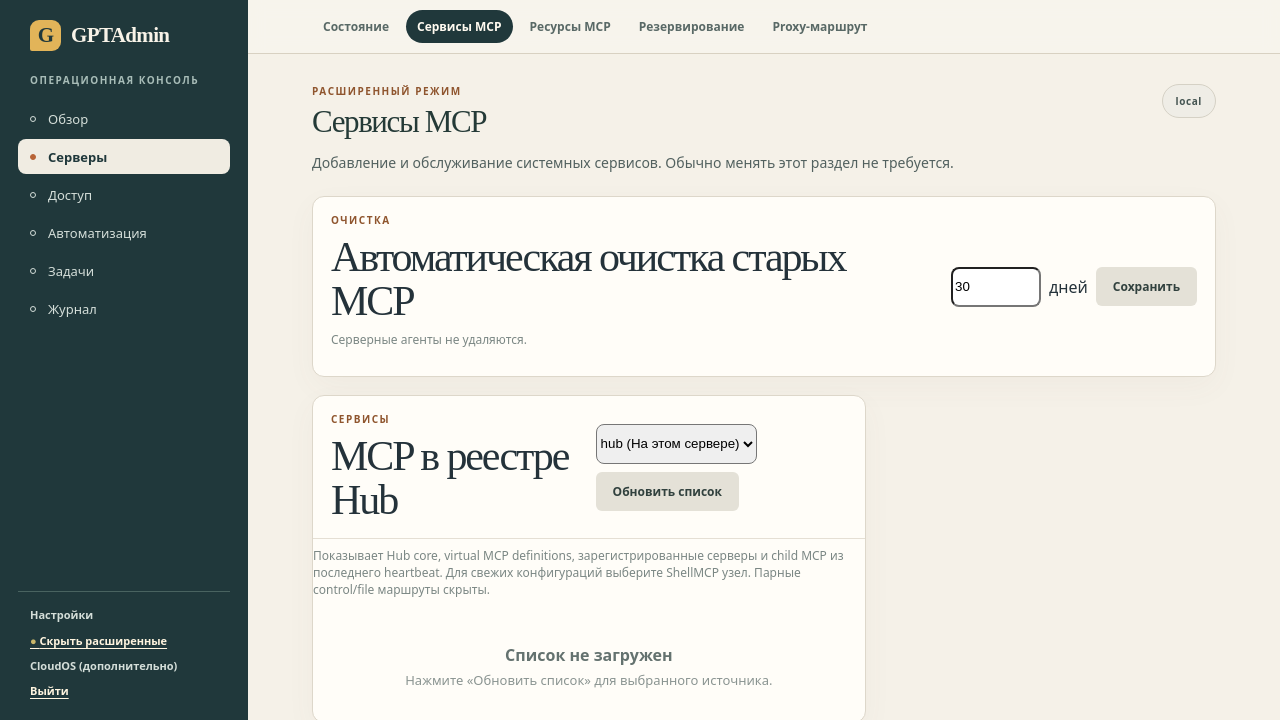
Test: uses native React MCP and failover screens without the legacy runtime
The width and height of the screenshot is (1280, 720).
Expected: the heading "Сервисы MCP" is shown, [312,104,486,139]
Click the button "Обновить список" at (667, 491), box [596,472,739,511]
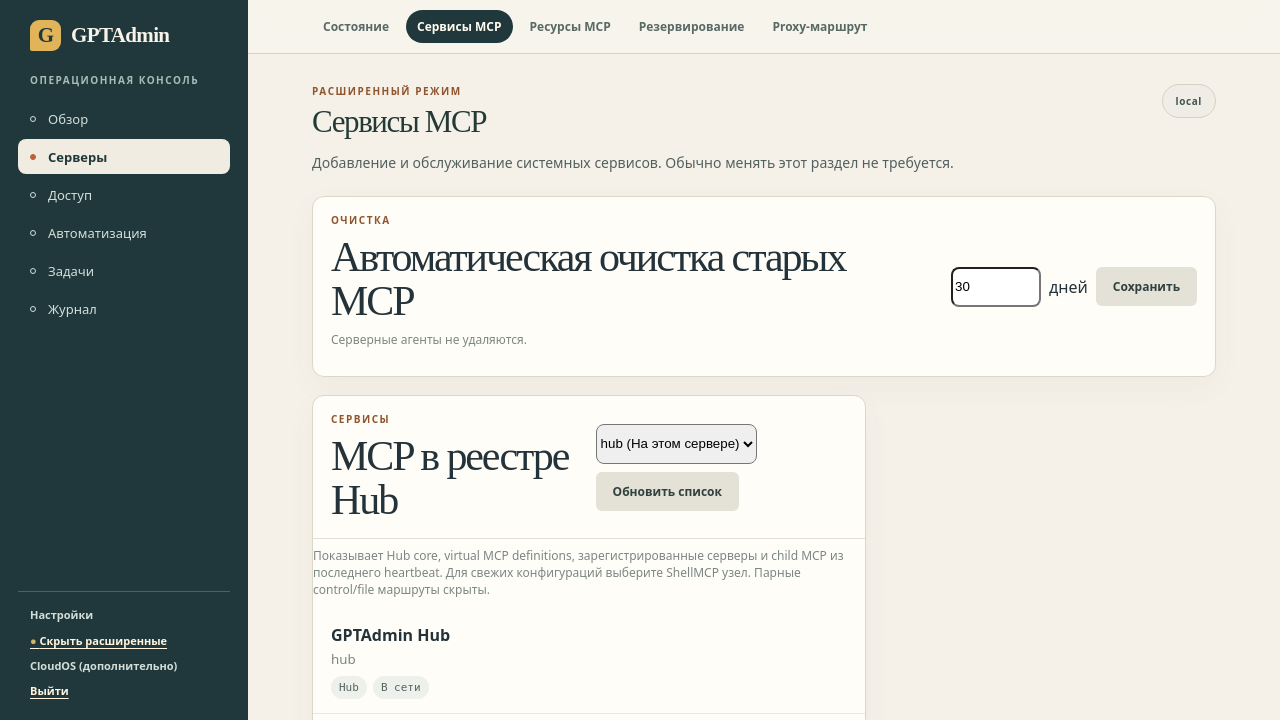
Result: the text "GPTAdmin Hub" is shown at [331,624,450,646]
Click the link "Резервирование" at (692, 26), box [639,18,744,35]
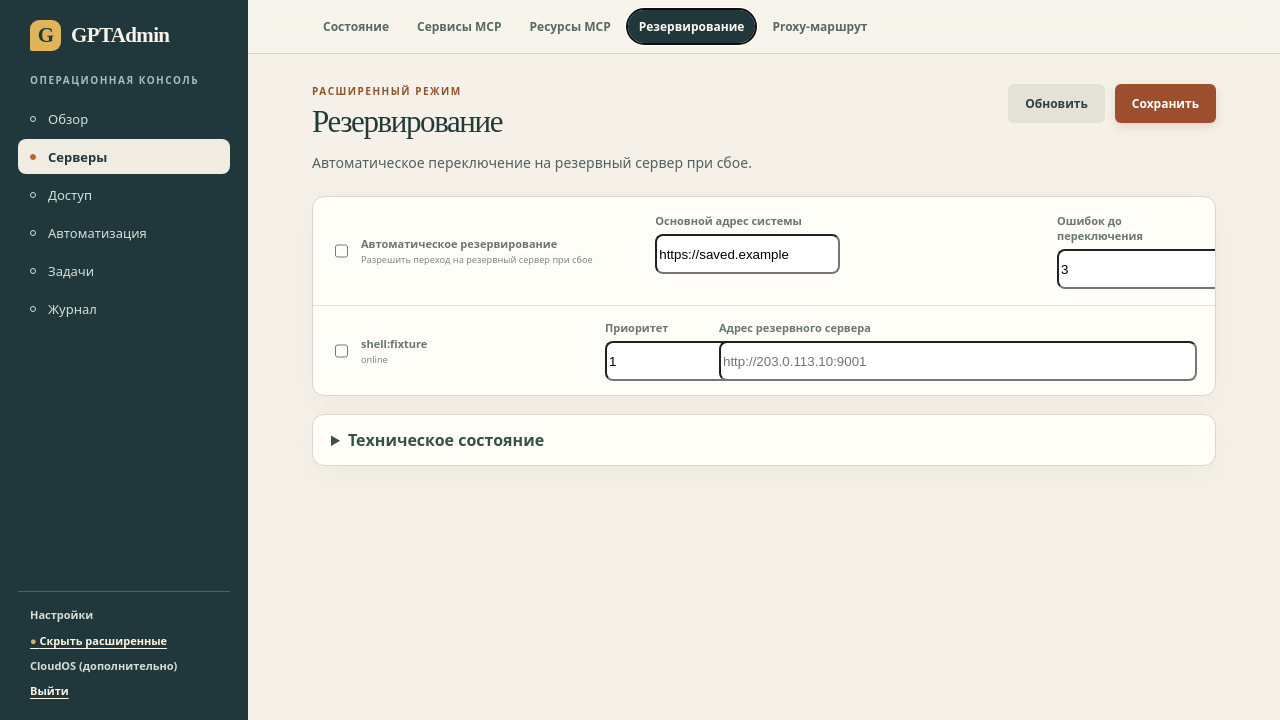
Result: the text "shell:fixture" is shown at [361,336,427,351]
Result: the heading "Резервирование" is shown at [312,104,502,139]
Result: the field showing "https://saved.example" is shown at [655,234,840,274]
